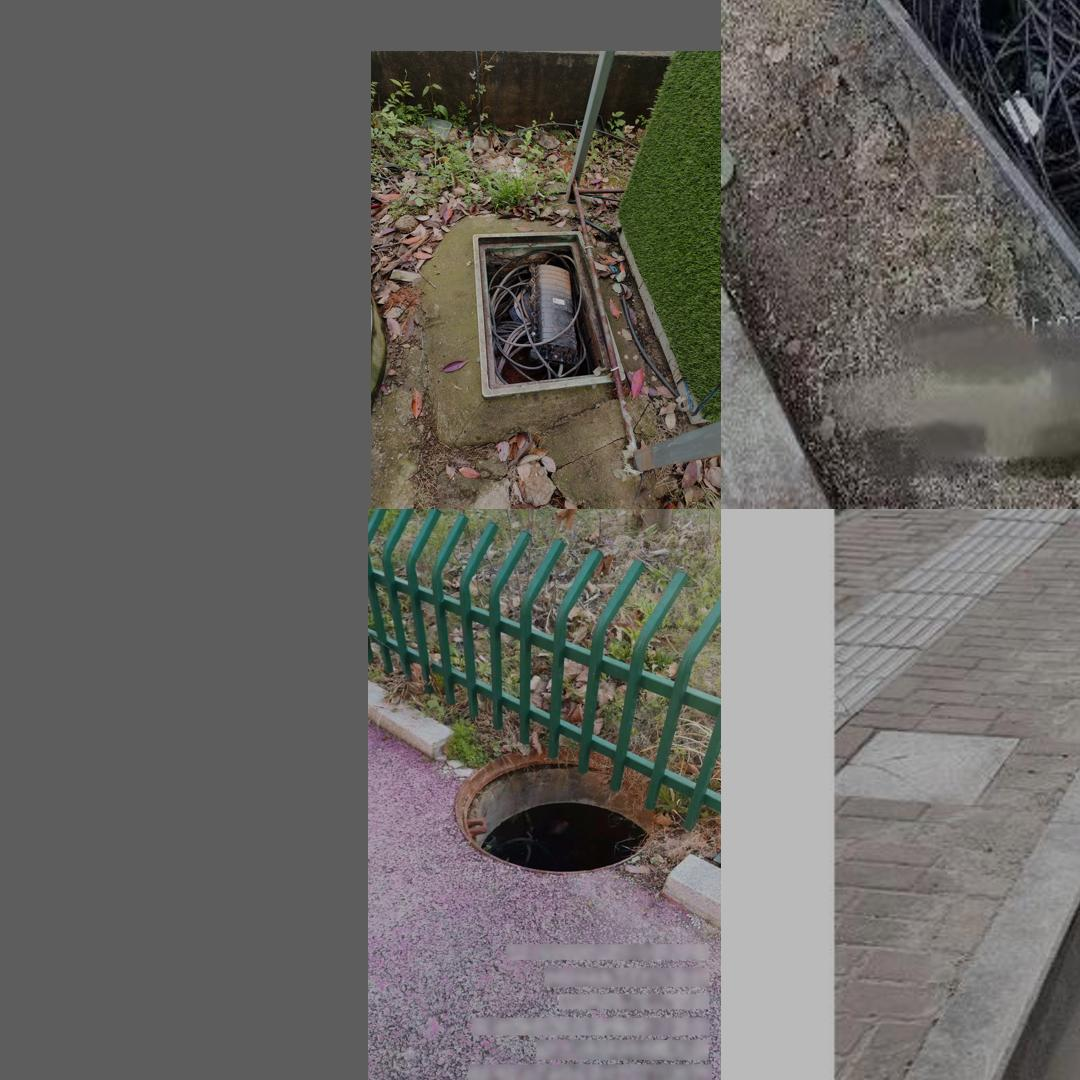lose: (817, 0, 1080, 200), (431, 742, 685, 881), (473, 230, 625, 399), (1025, 799, 1080, 1080)
